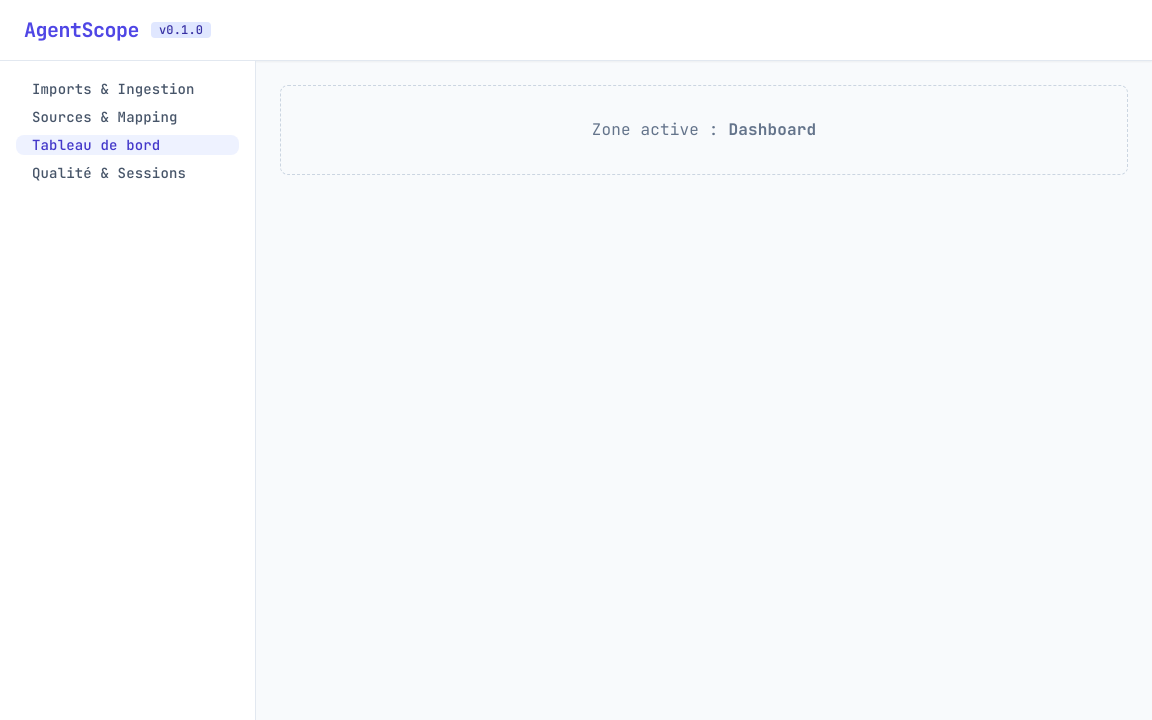
Layout & Navigation UI (I5.1) › affiche la navigation latérale et bascule entre les zones
Expected: the text "AgentScope" is shown, [24,16,139,44]
Expected: the navigation bar is shown, [0,61,256,719]
Click the button "Imports & Ingestion". click: (128, 89)
box: [16,79,239,99]
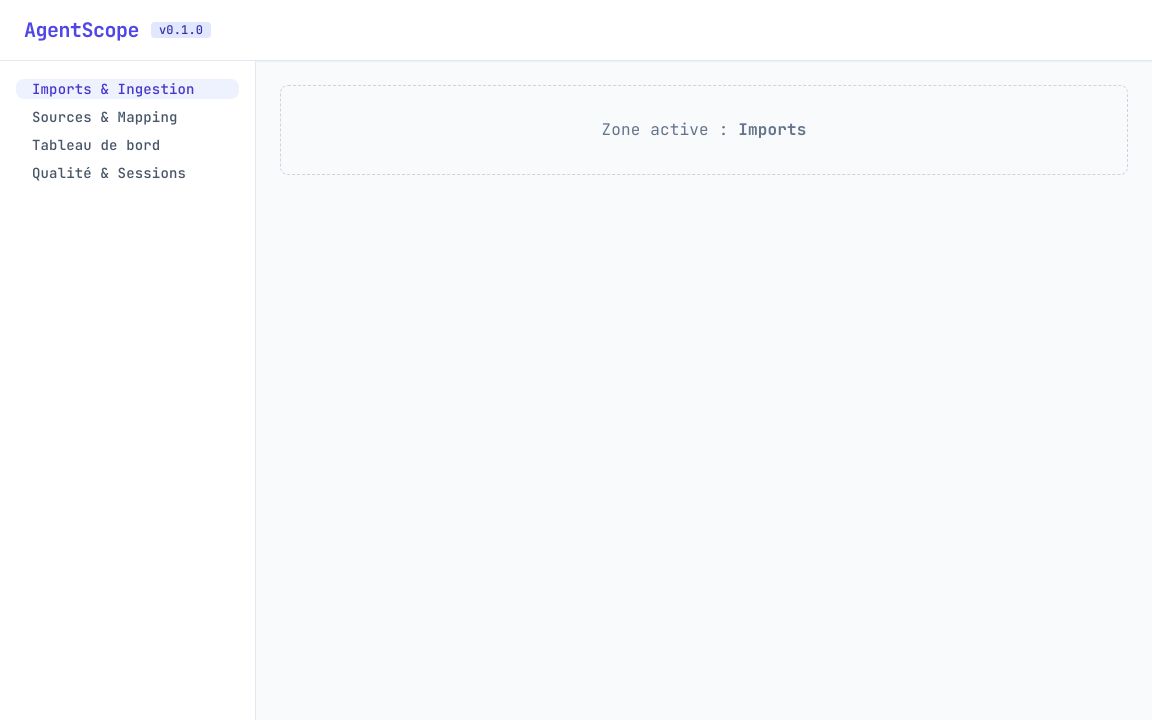
Expected: the text "imports" is shown, [738,119,806,140]
